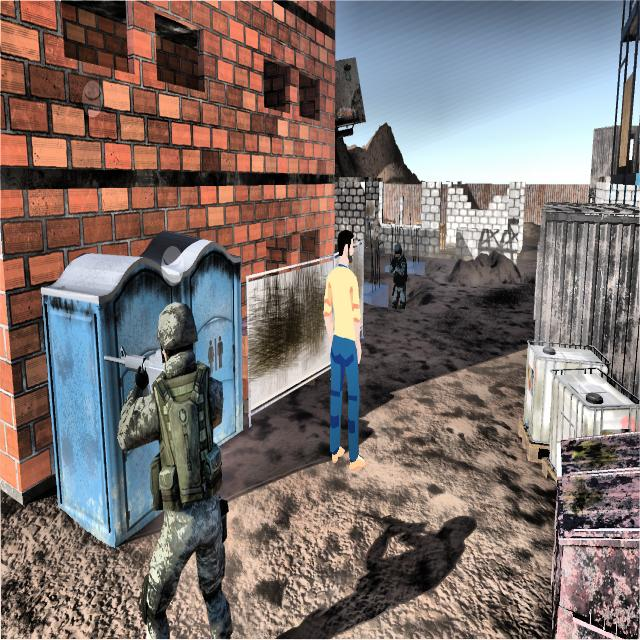bad: (103, 289, 248, 640), (387, 233, 412, 312)
good: (316, 220, 375, 473)
